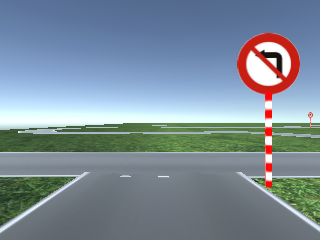0: (1, 194, 320, 239)
NoLeft: (237, 33, 300, 94)
